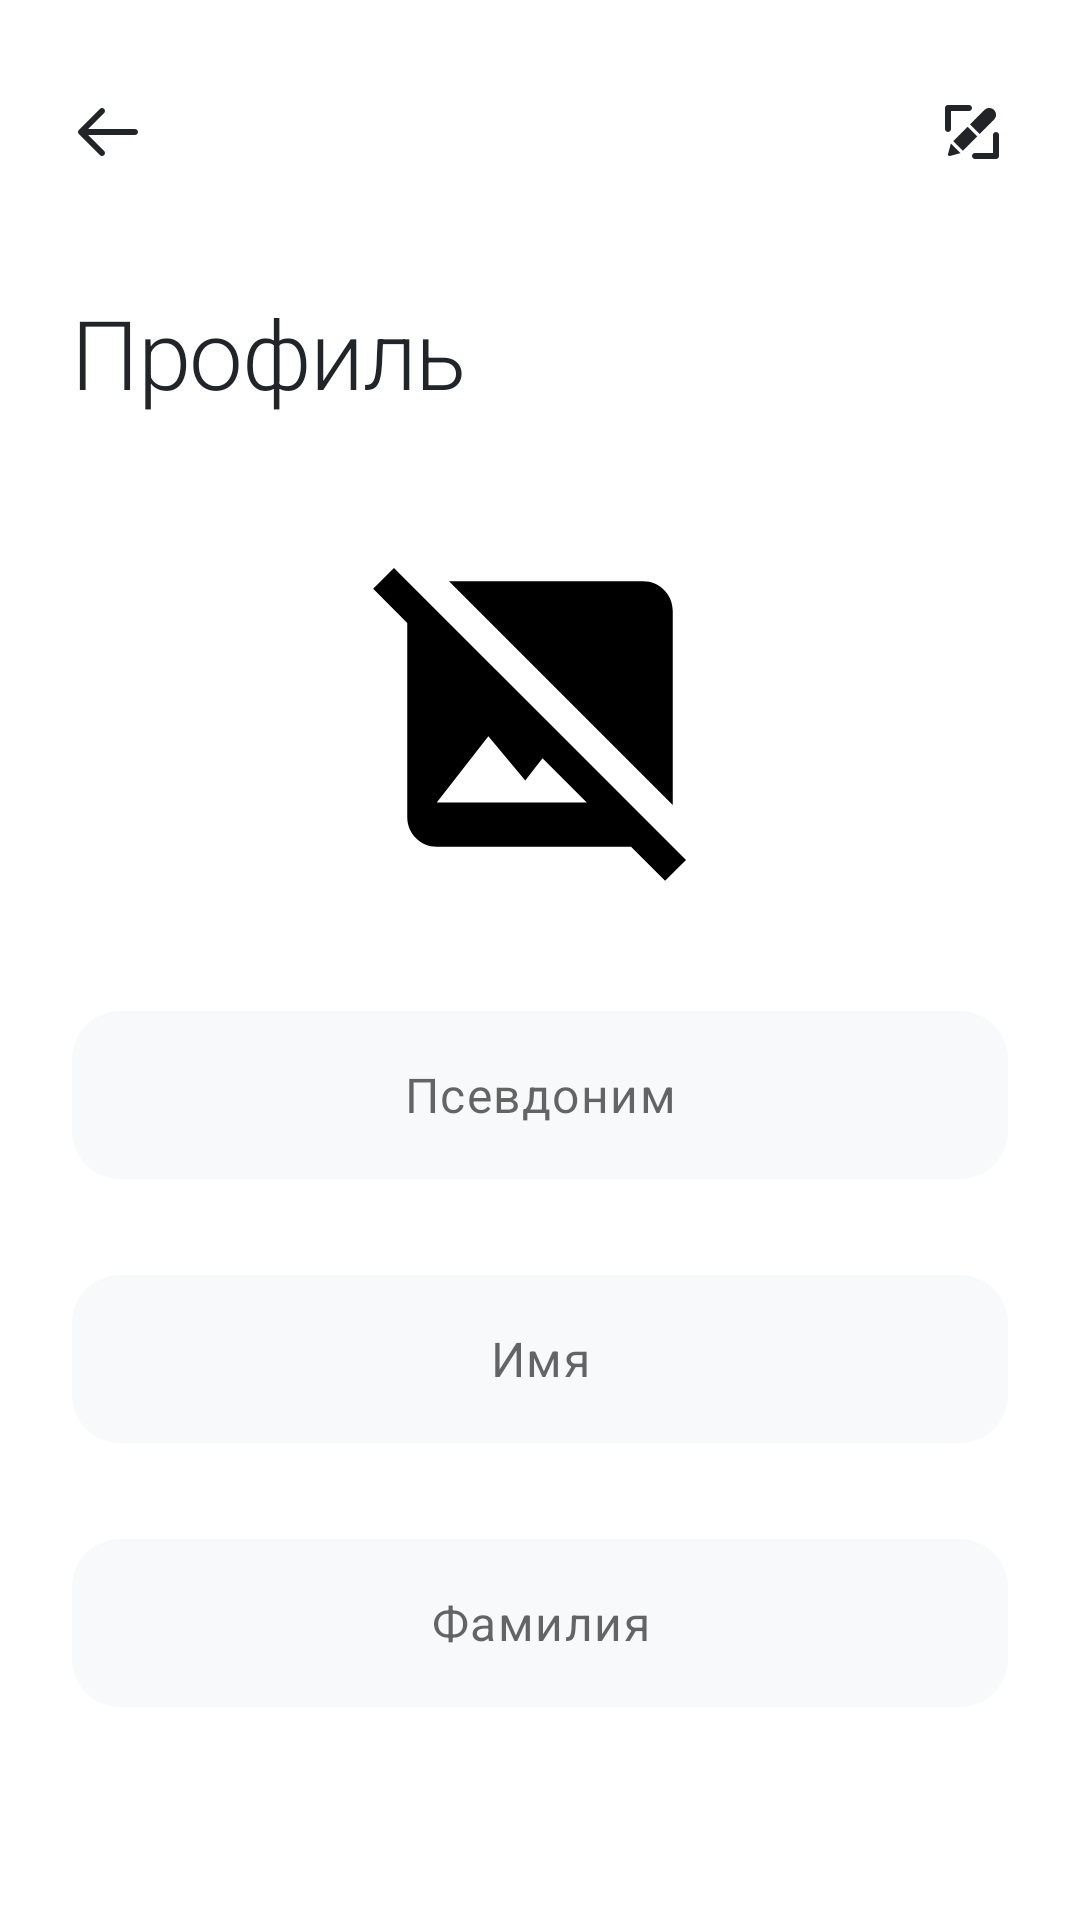

Named icons in this screenshot (1080x1920) and their bounding boxes, [x1, y1, x2, y2]:
вернуться назад: [78, 108, 138, 156]
